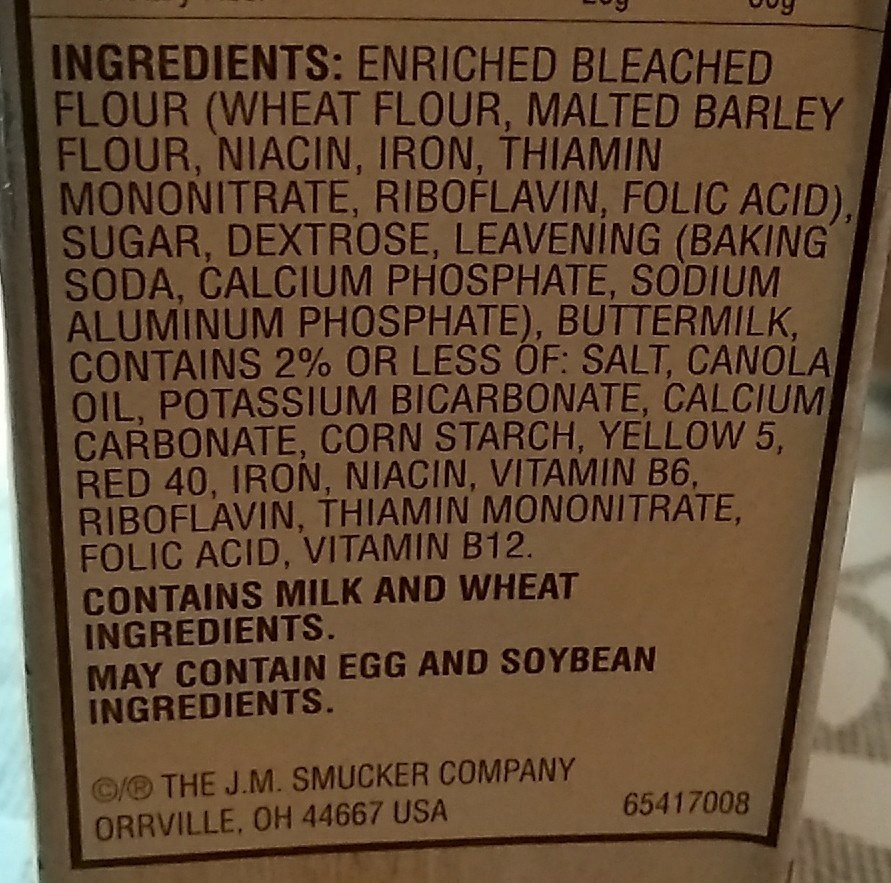ingredients: (36, 37, 857, 574)
